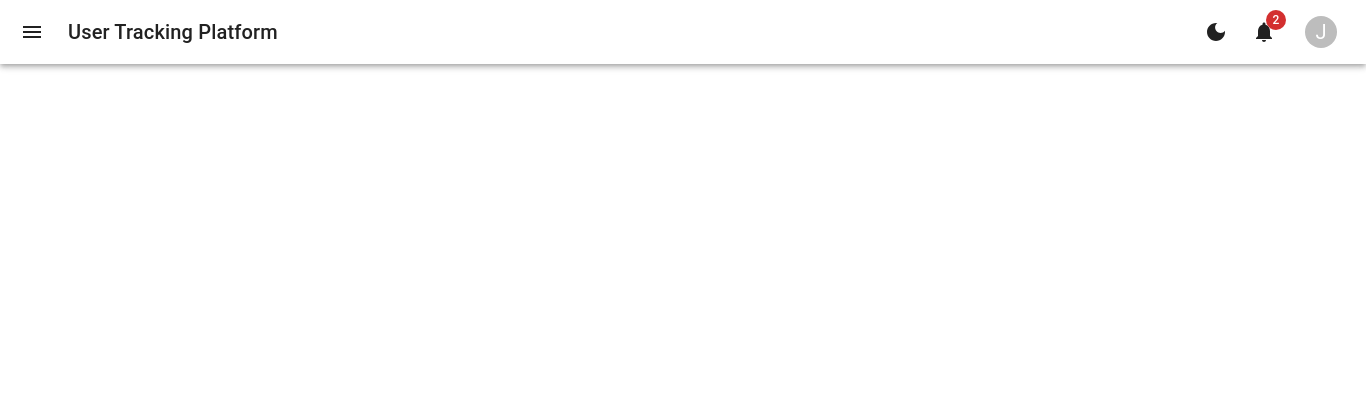
Test case: Header › notifications popover › should open notifications when clicking notifications button
This screenshot has width=1366, height=419.
Click the button with test id "NotificationsIcon": [1264, 32] box [1244,12,1284,52]
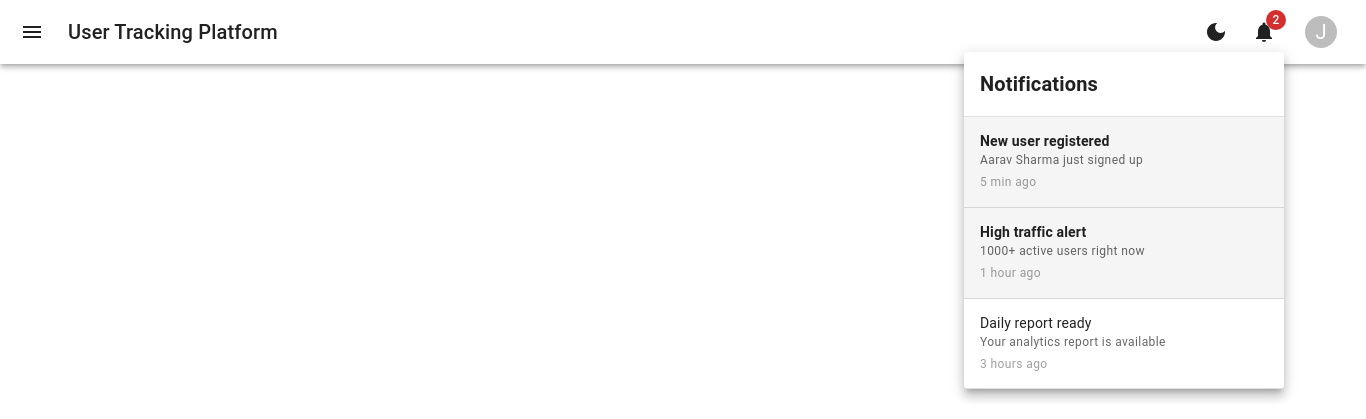
Now the heading "Notifications" is shown, box [980,72,1098,96]
Now the text "New user registered" is shown, box [980,133,1110,149]
